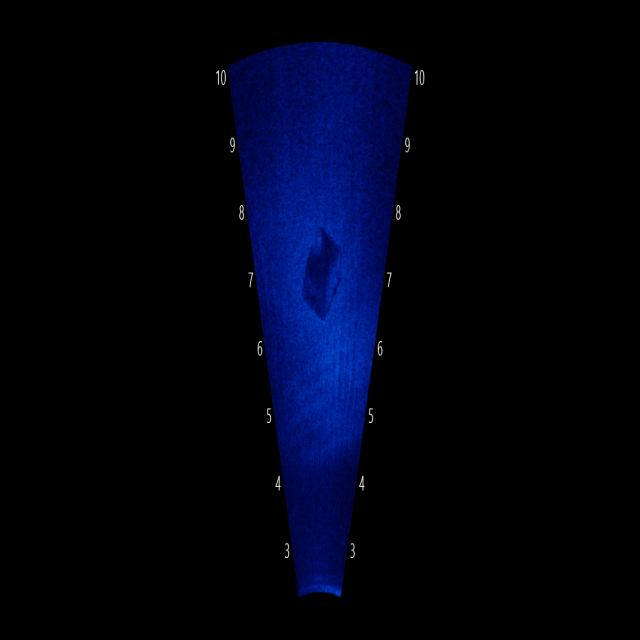square: (298, 224, 352, 333)
